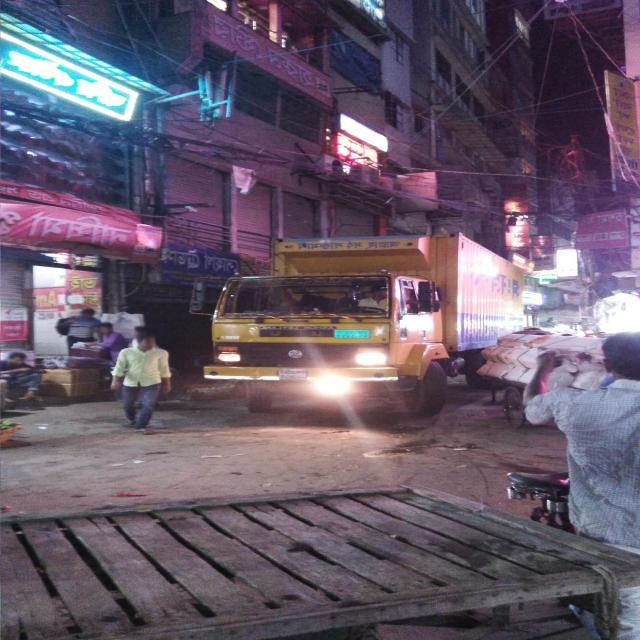truck: (197, 225, 525, 432)
